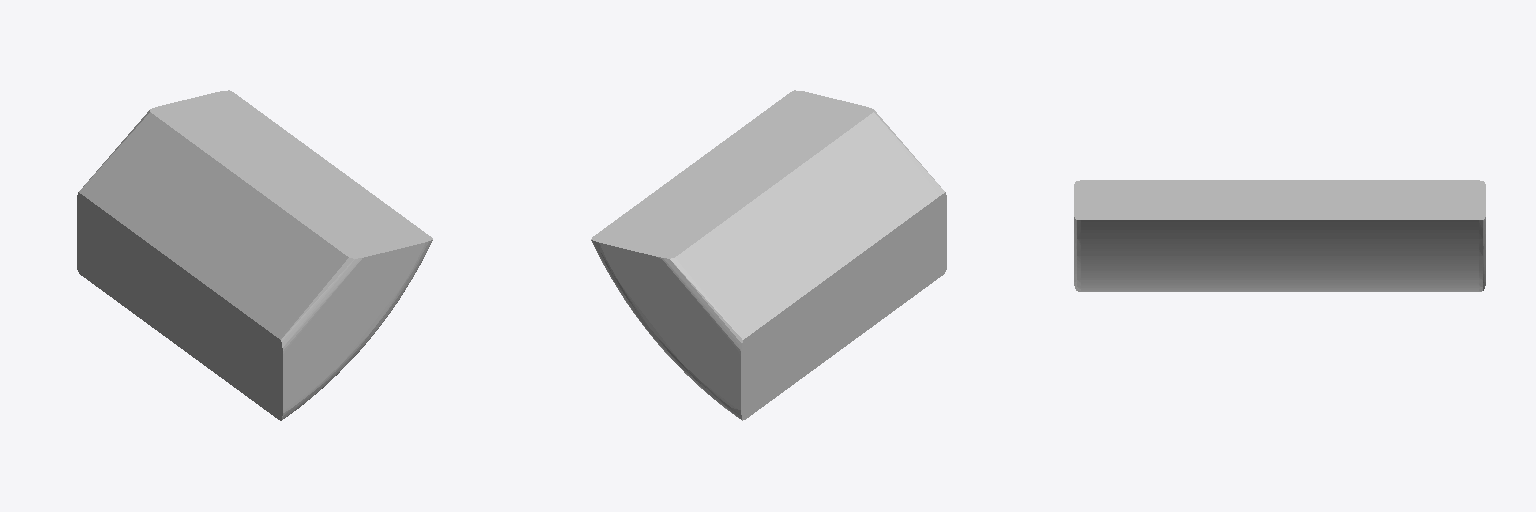
Rendered from Cylinder_with_Hole_collision_8.obj.
3 views of the same model, side by side, from view 1: azimuth 30°, elevation 25°; view 2: azimuth 150°, elevation 25°; view 3: azimuth 270°, elevation 25° (orthographic).
Bounding box in the file's own units: 60.99 × 55.58 × 143.